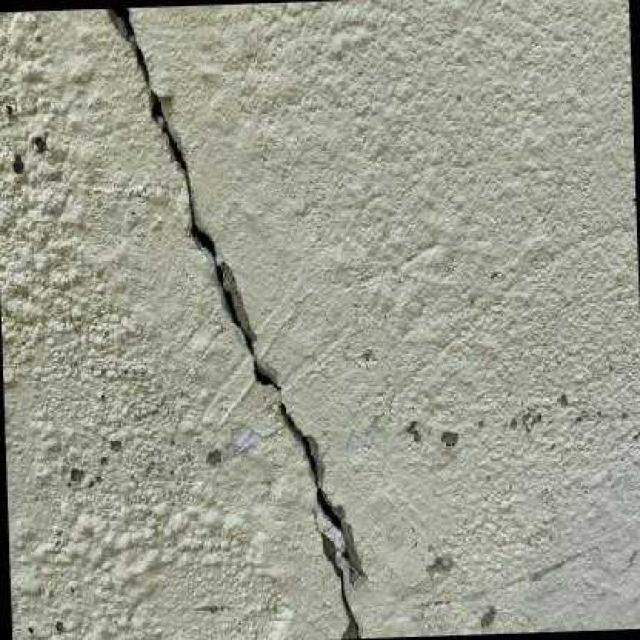D00: (104, 7, 363, 640)
